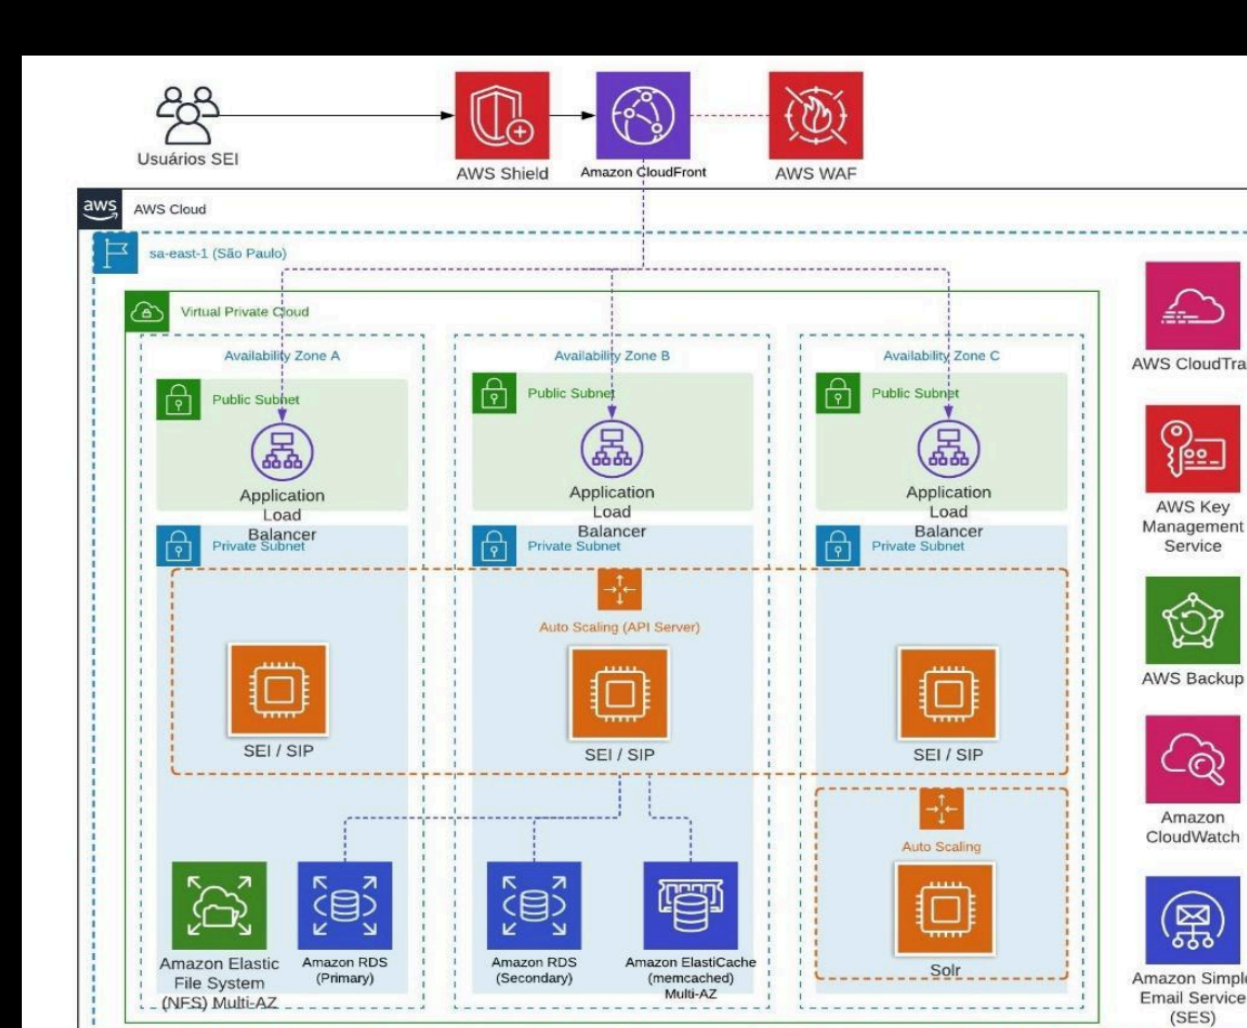aws_application_load_balancer: (245, 420, 316, 481), (574, 417, 645, 477), (912, 417, 982, 477)
aws_autoscaling: (597, 567, 639, 609), (919, 787, 962, 827)
aws_backup: (1145, 575, 1238, 662)
aws_cloud: (72, 186, 121, 225)
aws_cloud_trail: (1145, 259, 1238, 347)
aws_cloudfront: (593, 69, 689, 159)
aws_cloudwatch: (1145, 717, 1236, 803)
aws_elactic_file_system(nfs)_multi-az: (173, 860, 265, 949)
aws_elasticache: (640, 864, 737, 950)
aws_key_management_service: (1143, 404, 1240, 494)
aws_private_subnet: (814, 524, 858, 568), (473, 523, 516, 564), (156, 524, 199, 564)
aws_public_subnet: (452, 67, 548, 160), (153, 376, 200, 420), (470, 370, 515, 414), (816, 371, 857, 412)
aws_rds: (299, 862, 392, 945), (488, 862, 580, 945)
aws_region: (91, 230, 138, 272)
aws_simple_email_service: (1145, 876, 1240, 966)
aws_virtual_private_cloud: (124, 291, 170, 332)
aws_waf: (761, 66, 864, 161)
sei/sip: (897, 644, 995, 737), (568, 644, 666, 737), (228, 641, 326, 734)
solr: (897, 862, 990, 948)
user: (146, 80, 226, 145)
